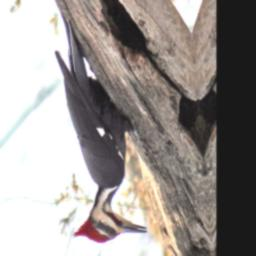Woodpecker: (50, 1, 150, 250)
